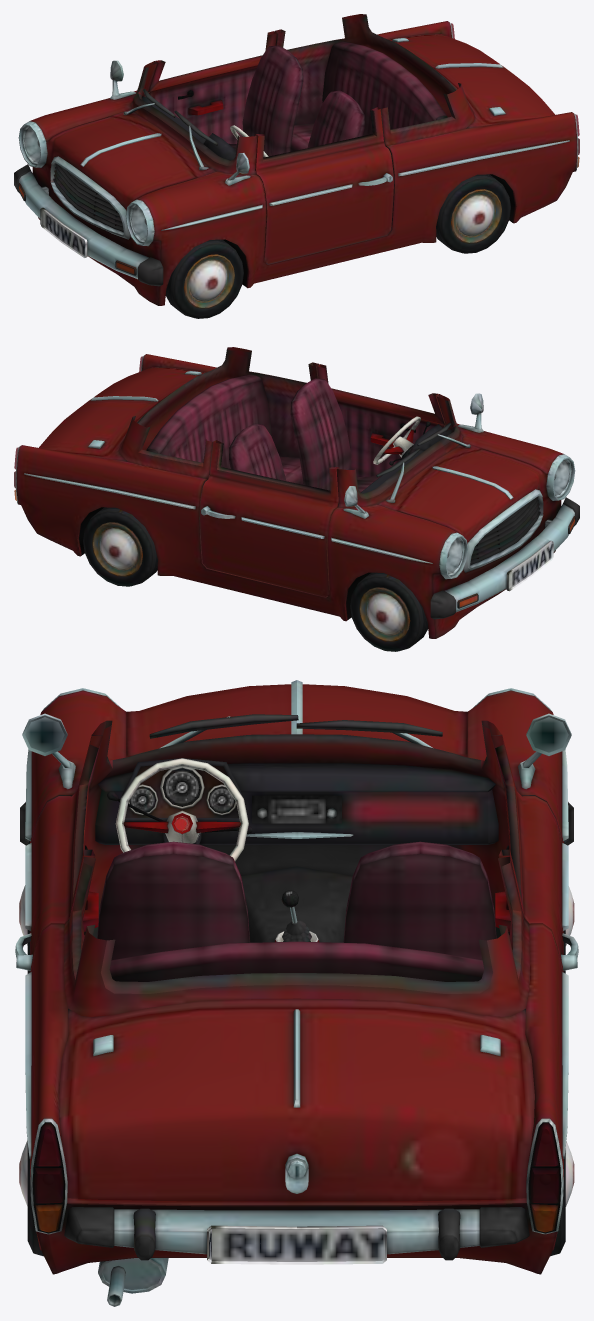
The model's file is auto-cicada.glb.
The picture shows the model from 3 angles, top to bottom: view 1: azimuth 30°, elevation 25°; view 2: azimuth 150°, elevation 25°; view 3: azimuth 270°, elevation 25°; orthographic projection. The views are drawn at different scales.
Visible parts, largest first — view 1: CICADA_PAINT_CICADA_PAINT_0, inside_CICADA_DEFAULT_0, LEFT_DOOR_CICADA_PAINT_0, CICADA_CHROME_CICADA_CHROME_0, BODY_CICADA_DEFAULT_0, left_front_wheel_CICADA_DEFAULT_0, left_rear_wheel_CICADA_DEFAULT_0, DOOR_R_MATTE_CICADA_DEFAULT_0, RIGHT_DOOR_CICADA_PAINT_0, front_lamp_glass_CICADA_LAMPS_0, DOOR_L_CHROME_CICADA_DEFAULT_0; view 2: CICADA_PAINT_CICADA_PAINT_0, inside_CICADA_DEFAULT_0, RIGHT_DOOR_CICADA_PAINT_0, CICADA_CHROME_CICADA_CHROME_0, BODY_CICADA_DEFAULT_0, right_front_wheel_CICADA_DEFAULT_0, right_rear_wheel_CICADA_DEFAULT_0, DOOR_L_MATTE_CICADA_DEFAULT_0, LEFT_DOOR_CICADA_PAINT_0, front_lamp_glass_CICADA_LAMPS_0, steering_wheel_CICADA_DEFAULT_0, DOOR_R_CHROME_CICADA_DEFAULT_0; view 3: CICADA_PAINT_CICADA_PAINT_0, inside_CICADA_DEFAULT_0, BODY_CICADA_DEFAULT_0, CICADA_CHROME_CICADA_CHROME_0, LEFT_DOOR_CICADA_PAINT_0, RIGHT_DOOR_CICADA_PAINT_0, rear_lamp_glass_CICADA_LAMPS_0, steering_wheel_CICADA_DEFAULT_0, DOOR_L_CHROME_CICADA_DEFAULT_0, DOOR_R_CHROME_CICADA_DEFAULT_0, left_rear_wheel_CICADA_DEFAULT_0, right_rear_wheel_CICADA_DEFAULT_0.
Part boxes in pixels (box(x1,y1,x2,y2)): CICADA_PAINT_CICADA_PAINT_0: box(30, 14, 578, 305); inside_CICADA_DEFAULT_0: box(138, 16, 455, 160); LEFT_DOOR_CICADA_PAINT_0: box(255, 107, 393, 263); CICADA_CHROME_CICADA_CHROME_0: box(18, 38, 569, 279); BODY_CICADA_DEFAULT_0: box(14, 28, 514, 286); left_front_wheel_CICADA_DEFAULT_0: box(165, 239, 243, 318); left_rear_wheel_CICADA_DEFAULT_0: box(436, 174, 510, 253); DOOR_R_MATTE_CICADA_DEFAULT_0: box(149, 65, 257, 144); RIGHT_DOOR_CICADA_PAINT_0: box(148, 31, 276, 92); front_lamp_glass_CICADA_LAMPS_0: box(24, 127, 147, 240); DOOR_L_CHROME_CICADA_DEFAULT_0: box(269, 173, 392, 205); CICADA_PAINT_CICADA_PAINT_0: box(15, 347, 563, 638); inside_CICADA_DEFAULT_0: box(138, 349, 455, 493); RIGHT_DOOR_CICADA_PAINT_0: box(200, 440, 338, 596); CICADA_CHROME_CICADA_CHROME_0: box(24, 371, 575, 612); BODY_CICADA_DEFAULT_0: box(79, 361, 579, 619); right_front_wheel_CICADA_DEFAULT_0: box(350, 572, 428, 651); right_rear_wheel_CICADA_DEFAULT_0: box(83, 507, 157, 586); DOOR_L_MATTE_CICADA_DEFAULT_0: box(336, 398, 444, 477); LEFT_DOOR_CICADA_PAINT_0: box(317, 364, 445, 425); front_lamp_glass_CICADA_LAMPS_0: box(446, 460, 569, 573); steering_wheel_CICADA_DEFAULT_0: box(373, 416, 420, 464); DOOR_R_CHROME_CICADA_DEFAULT_0: box(201, 506, 324, 538); CICADA_PAINT_CICADA_PAINT_0: box(30, 684, 563, 1274); inside_CICADA_DEFAULT_0: box(81, 722, 512, 981); BODY_CICADA_DEFAULT_0: box(20, 714, 573, 1264); CICADA_CHROME_CICADA_CHROME_0: box(22, 680, 571, 1306); LEFT_DOOR_CICADA_PAINT_0: box(30, 736, 102, 972); RIGHT_DOOR_CICADA_PAINT_0: box(491, 736, 563, 972); rear_lamp_glass_CICADA_LAMPS_0: box(34, 1123, 559, 1232); steering_wheel_CICADA_DEFAULT_0: box(115, 758, 248, 861); DOOR_L_CHROME_CICADA_DEFAULT_0: box(15, 843, 87, 970); DOOR_R_CHROME_CICADA_DEFAULT_0: box(506, 843, 578, 970); left_rear_wheel_CICADA_DEFAULT_0: box(19, 1140, 43, 1256); right_rear_wheel_CICADA_DEFAULT_0: box(550, 1141, 574, 1256).
Bounding box in the file's own units: 1.88 × 0.6039 × 0.9767.
3 materials, 3 textured.
